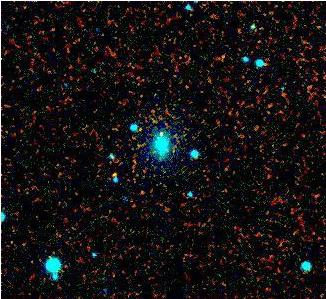star: (100, 159, 130, 189)
